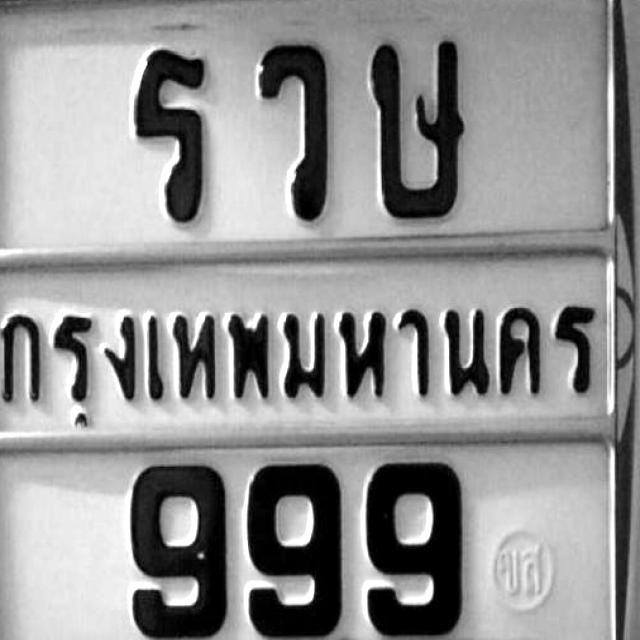letters: (99, 440, 241, 638), (105, 41, 225, 231), (359, 39, 475, 224), (244, 449, 352, 635), (358, 450, 466, 635), (252, 42, 341, 226)
license-plate: (0, 0, 634, 640)
province: (0, 304, 603, 404)
